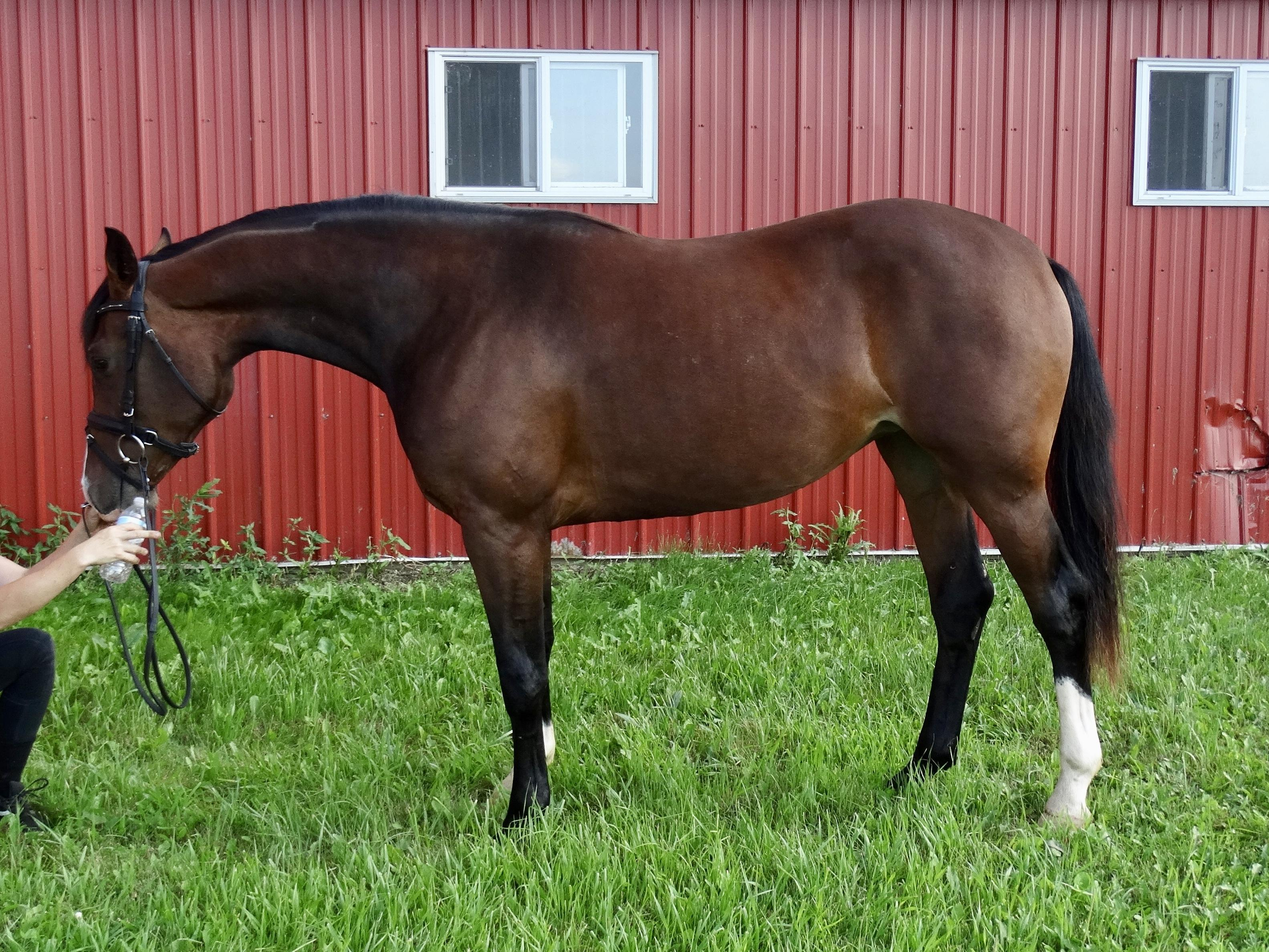horse: (66, 181, 1141, 848)
